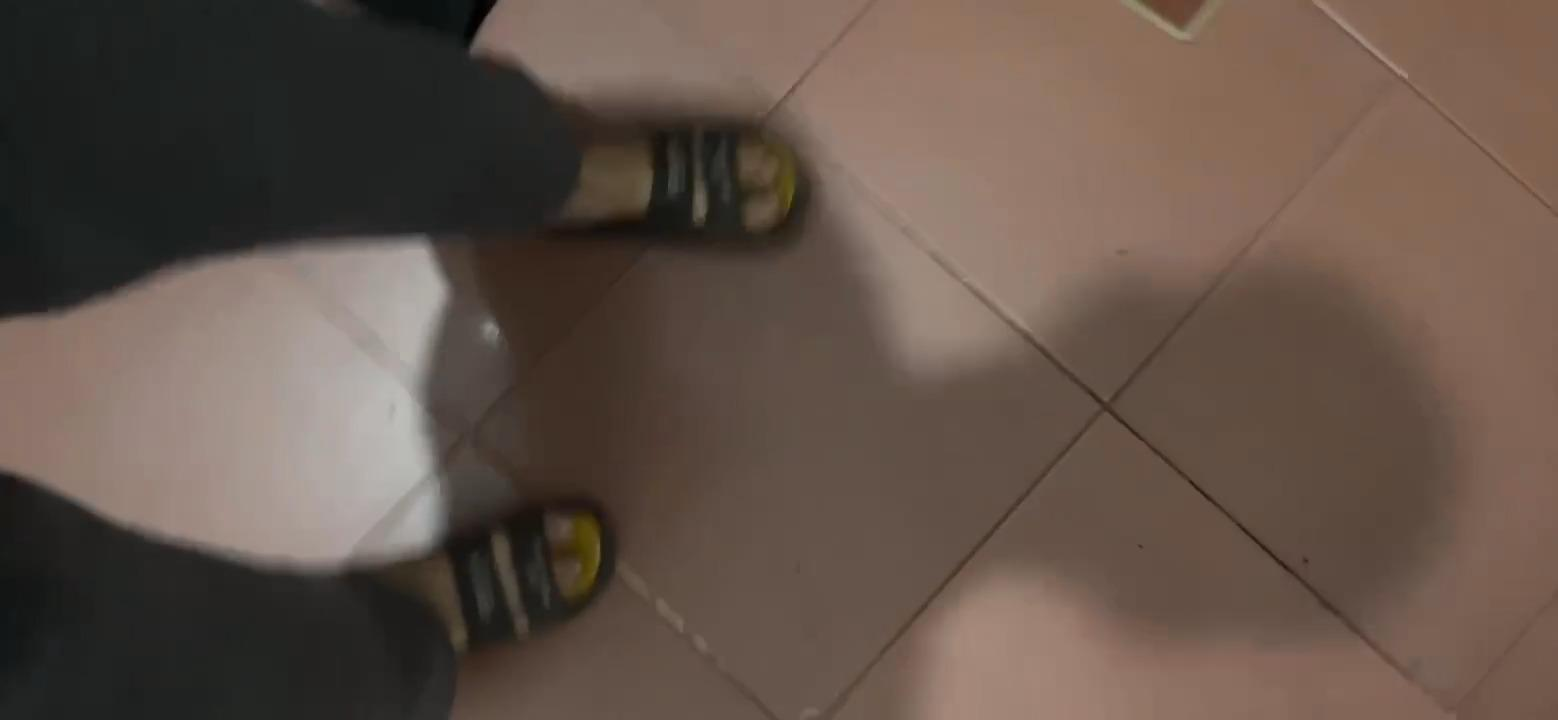no-boot: (365, 491, 645, 680), (523, 113, 810, 262)
